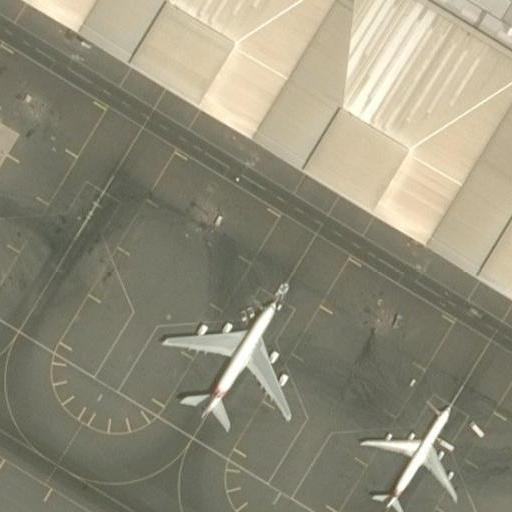Aircraft: (162, 284, 298, 434), (364, 393, 466, 512)
